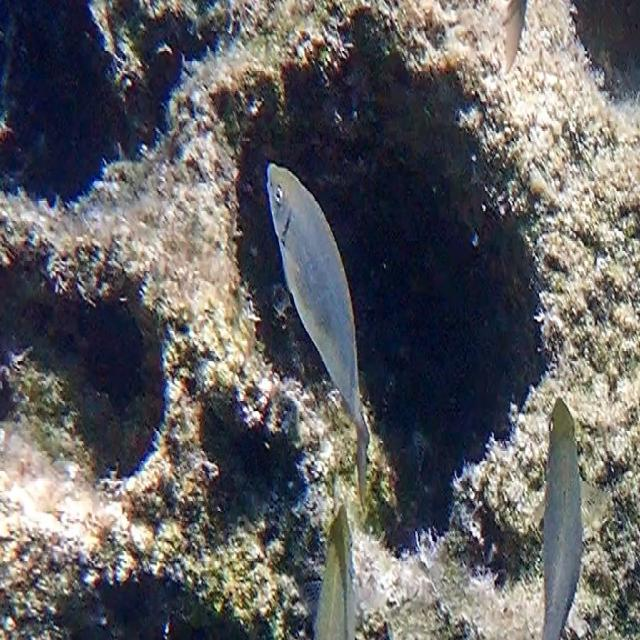Sokar Baligi: (259, 147, 382, 515)
